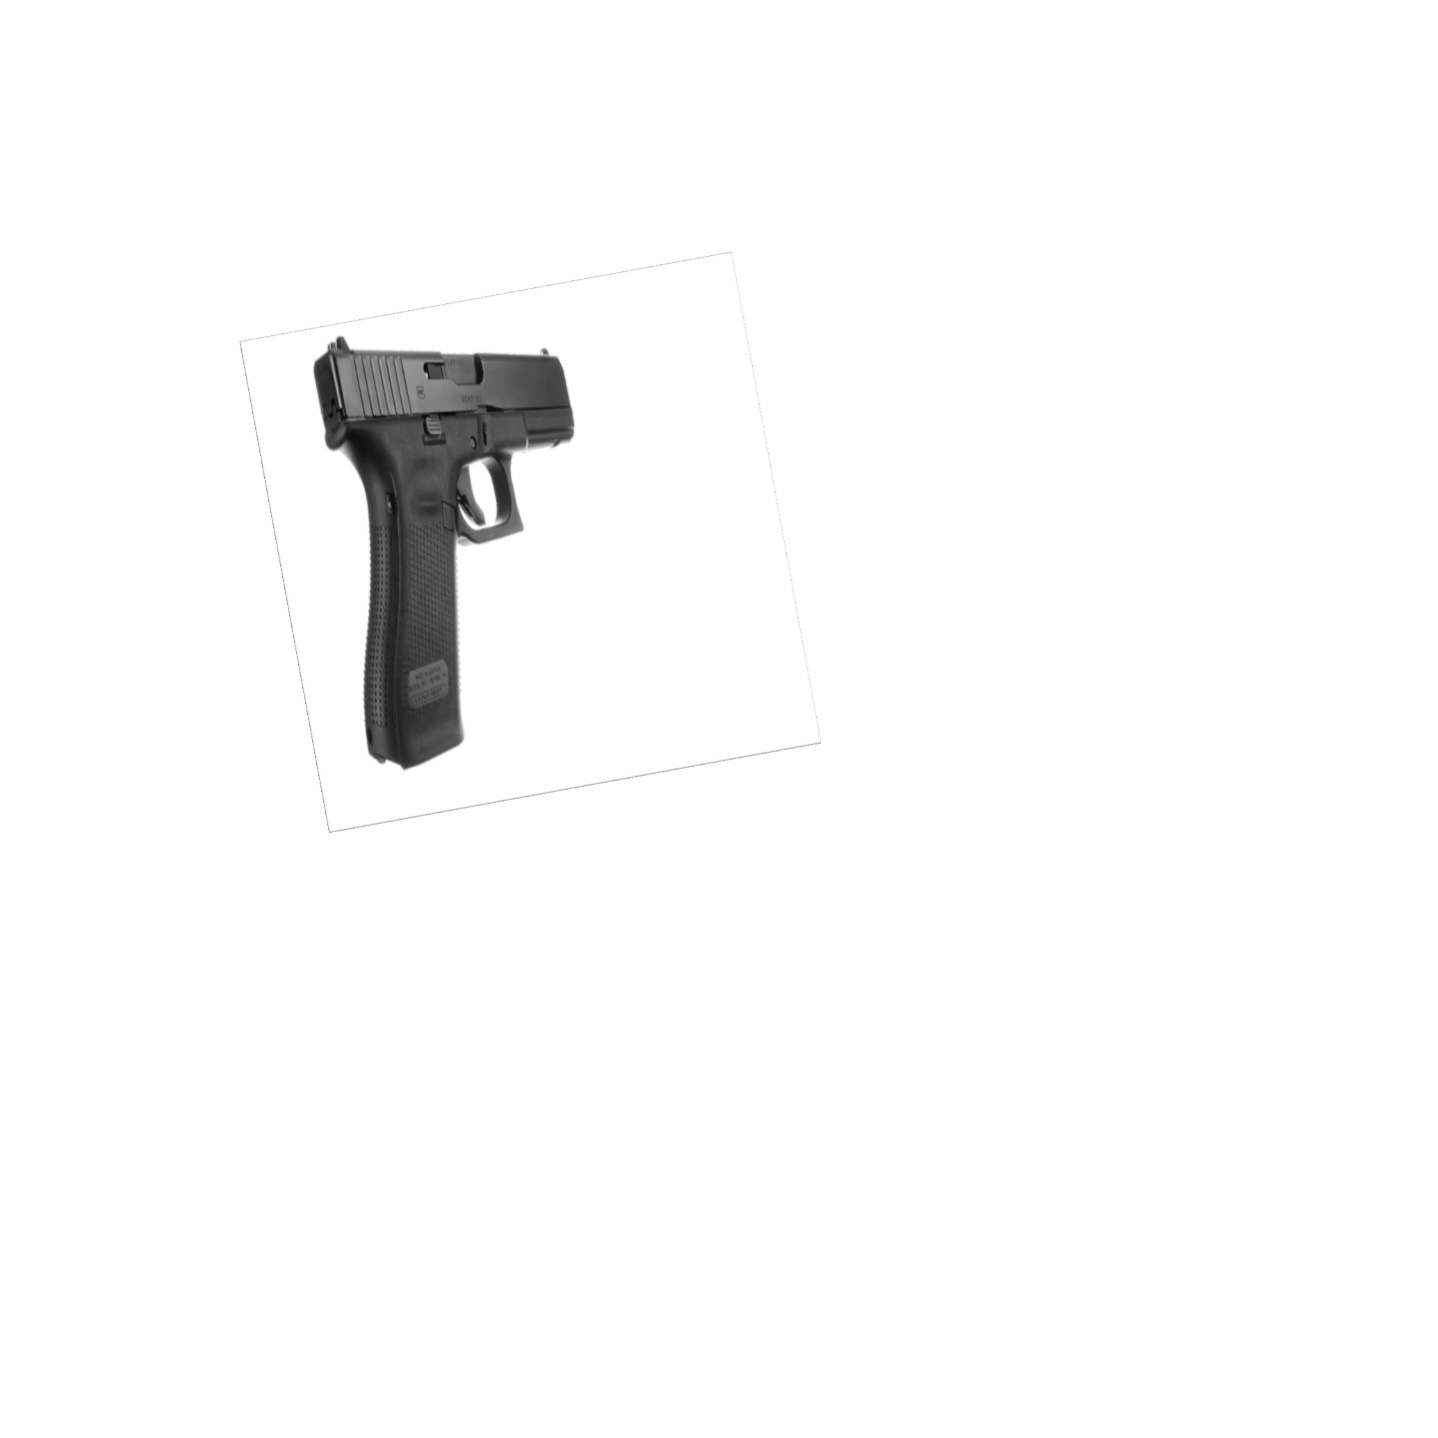gun: (313, 338, 578, 769)
